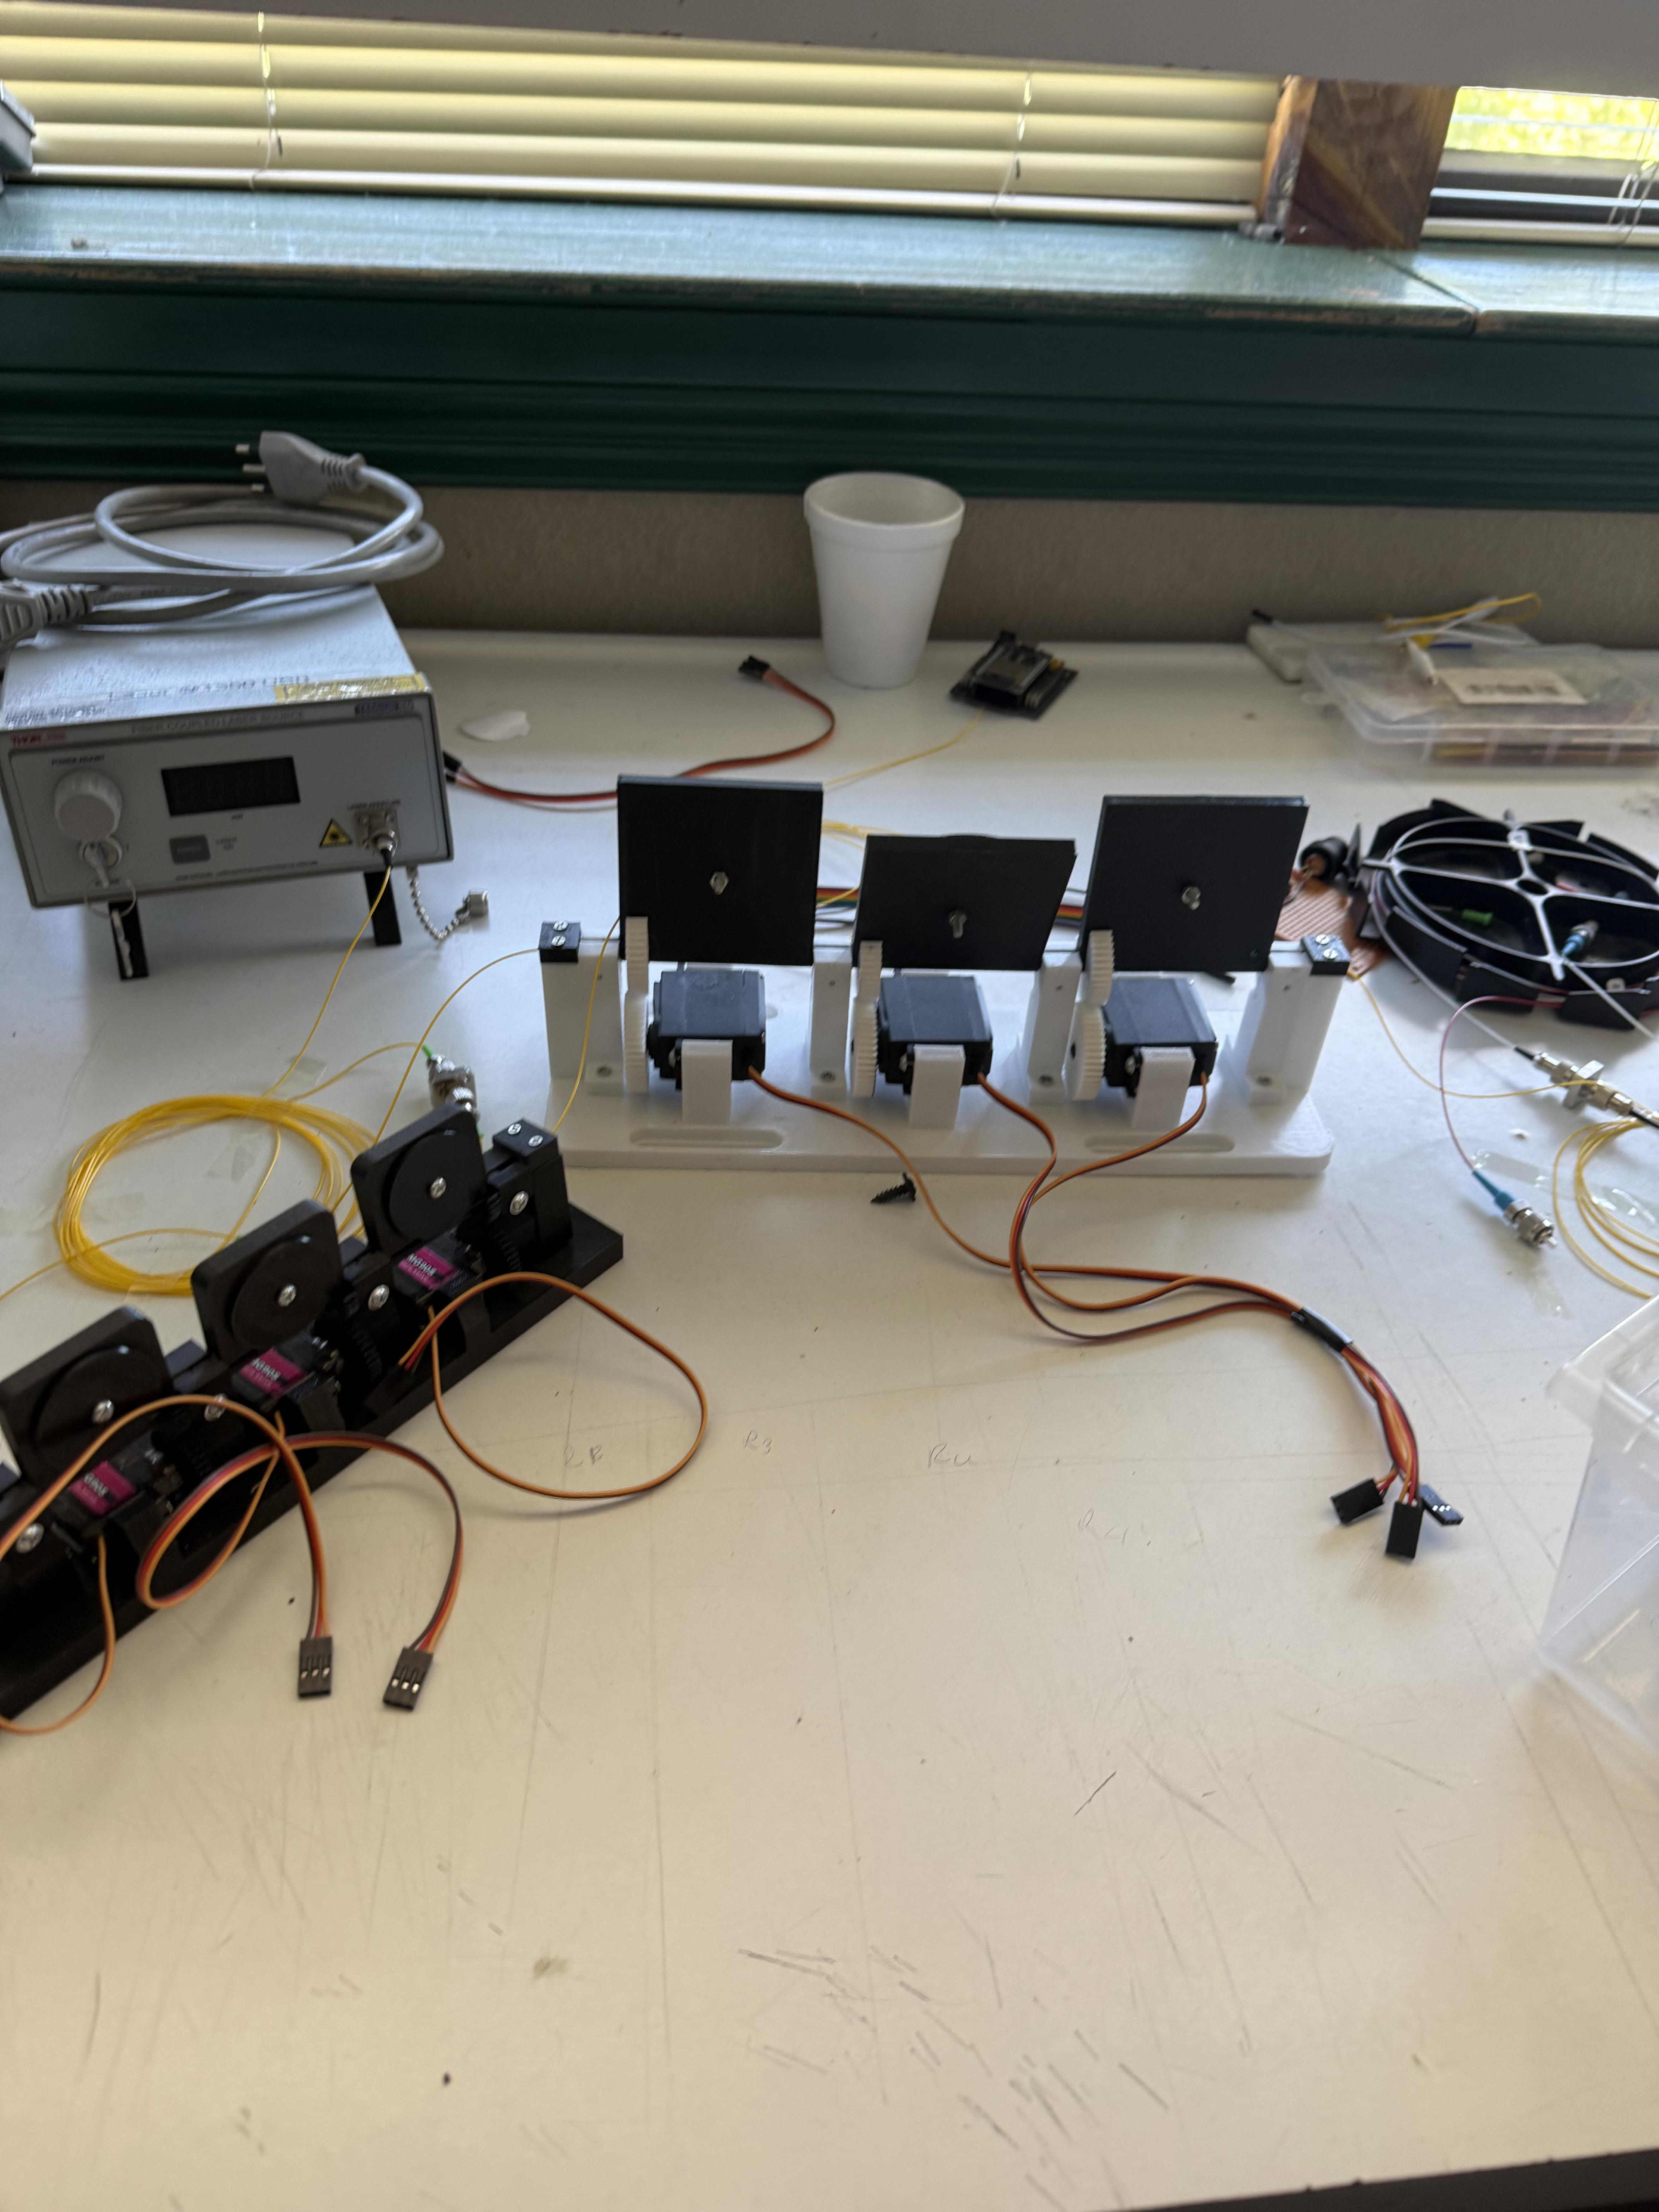paddle_polarization_controller: (19, 1038, 716, 1770), (516, 725, 1391, 1204)
